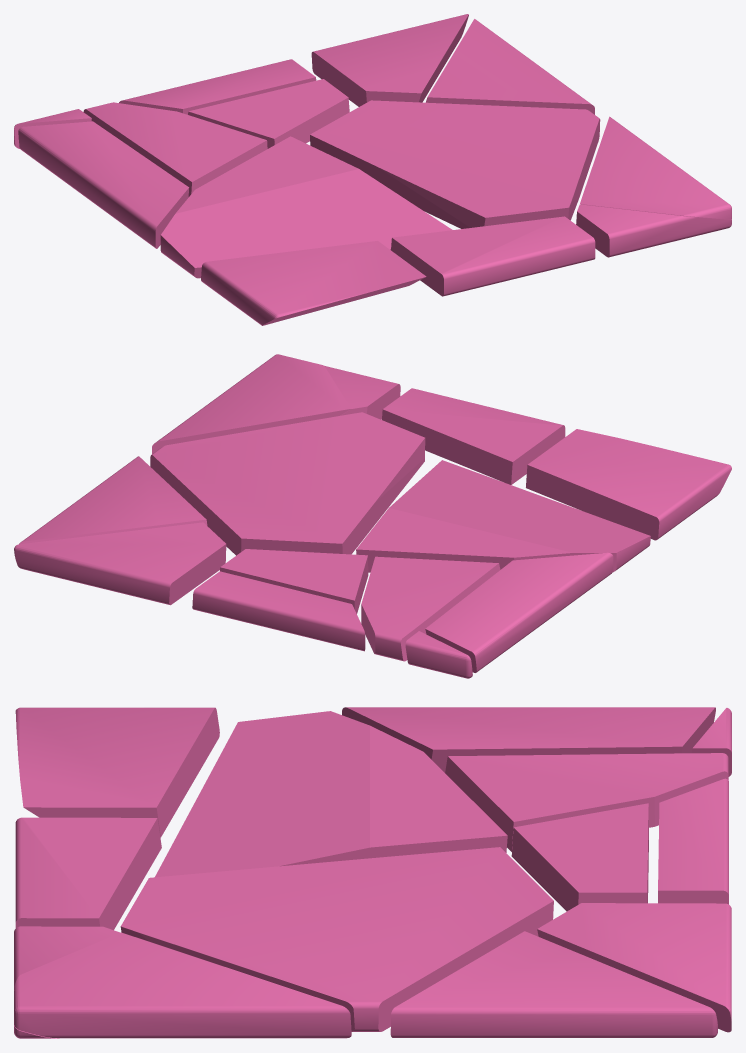
The model's file is crack2.glb.
The picture shows the model from 3 angles, top to bottom: view 1: azimuth 30°, elevation 25°; view 2: azimuth 150°, elevation 25°; view 3: azimuth 270°, elevation 25°; orthographic projection. The views are drawn at different scales.
Visible parts, largest first — view 1: platform_cell.005_cell.001, platform_cell.005_cell.002, platform_cell.001_cell.001, platform_cell.006, platform_cell.001_cell.002, platform_cell.004, platform_cell.008_cell.001, platform_cell.007, platform_cell.003, platform_cell.008_cell, platform_cell, platform_cell.008_cell.002 (+1 smaller); view 2: platform_cell.005_cell.001, platform_cell.005_cell.002, platform_cell.001_cell.001, platform_cell.004, platform_cell.006, platform_cell.001_cell.002, platform_cell.007, platform_cell.008_cell.001, platform_cell.008_cell.002, platform_cell.003, platform_cell.008_cell, platform_cell (+1 smaller); view 3: platform_cell.005_cell.001, platform_cell.005_cell.002, platform_cell.007, platform_cell.003, platform_cell.001_cell.001, platform_cell.006, platform_cell.008_cell.001, platform_cell.001_cell.002, platform_cell.004, platform_cell.008_cell, platform_cell.008_cell.002, platform_cell (+1 smaller).
Part boxes in pixels (x1,y1,x2,y2): platform_cell.005_cell.001: (310, 100, 600, 228); platform_cell.005_cell.002: (160, 136, 452, 278); platform_cell.001_cell.001: (201, 241, 426, 325); platform_cell.006: (18, 121, 189, 248); platform_cell.001_cell.002: (391, 216, 595, 296); platform_cell.004: (311, 14, 468, 106); platform_cell.008_cell.001: (83, 102, 267, 196); platform_cell.007: (580, 116, 731, 219); platform_cell.003: (426, 19, 594, 114); platform_cell.008_cell: (188, 79, 349, 148); platform_cell: (576, 204, 731, 257); platform_cell.008_cell.002: (119, 59, 316, 114); platform_cell.005_cell.001: (150, 412, 425, 555); platform_cell.005_cell.002: (356, 460, 650, 572); platform_cell.001_cell.001: (526, 429, 731, 540); platform_cell.004: (14, 522, 226, 605); platform_cell.006: (425, 552, 613, 672); platform_cell.001_cell.002: (382, 388, 565, 484); platform_cell.007: (152, 354, 350, 453); platform_cell.008_cell.001: (361, 556, 500, 661); platform_cell.008_cell.002: (192, 571, 365, 651); platform_cell.003: (19, 456, 207, 544); platform_cell.008_cell: (220, 549, 368, 613); platform_cell: (324, 366, 400, 419); platform_cell.005_cell.001: (120, 847, 553, 1031); platform_cell.005_cell.002: (155, 711, 507, 877); platform_cell.007: (14, 932, 351, 1038); platform_cell.003: (390, 931, 717, 1037); platform_cell.001_cell.001: (15, 707, 219, 837); platform_cell.006: (342, 707, 715, 772); platform_cell.008_cell.001: (445, 753, 728, 851); platform_cell.001_cell.002: (15, 817, 161, 930); platform_cell.004: (537, 903, 731, 1032); platform_cell.008_cell: (511, 803, 648, 911); platform_cell.008_cell.002: (658, 778, 728, 904); platform_cell: (14, 926, 120, 1038).
Size of the model in its own units: 19.8 by 0.9866 by 19.8.
